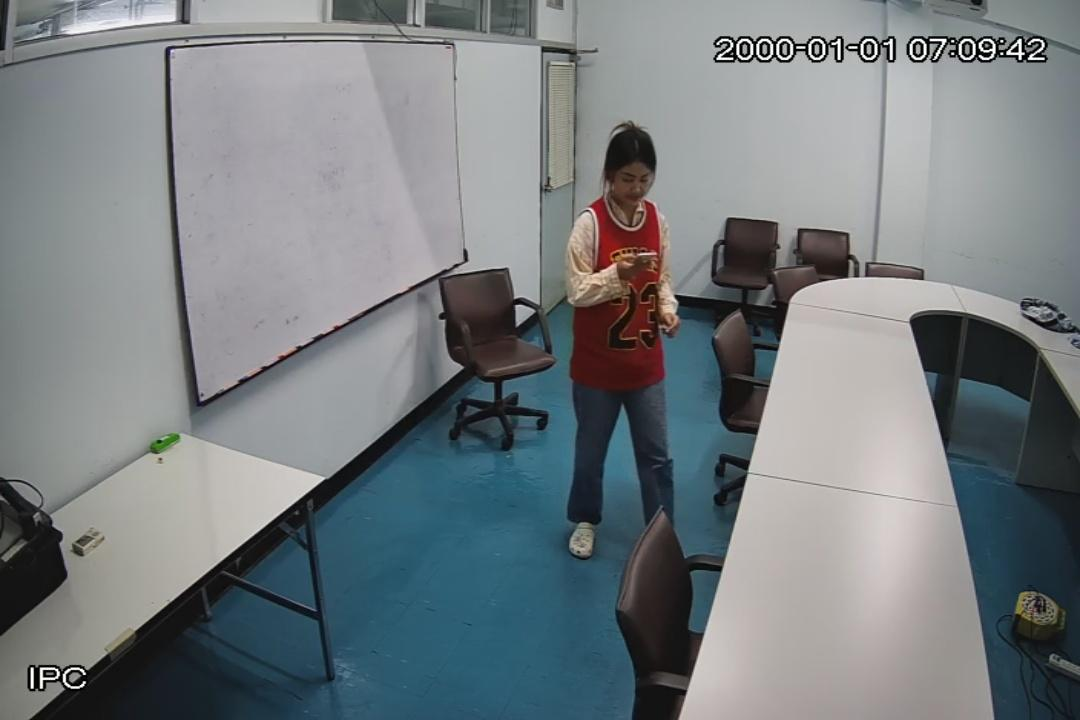normal: (564, 127, 680, 557)
